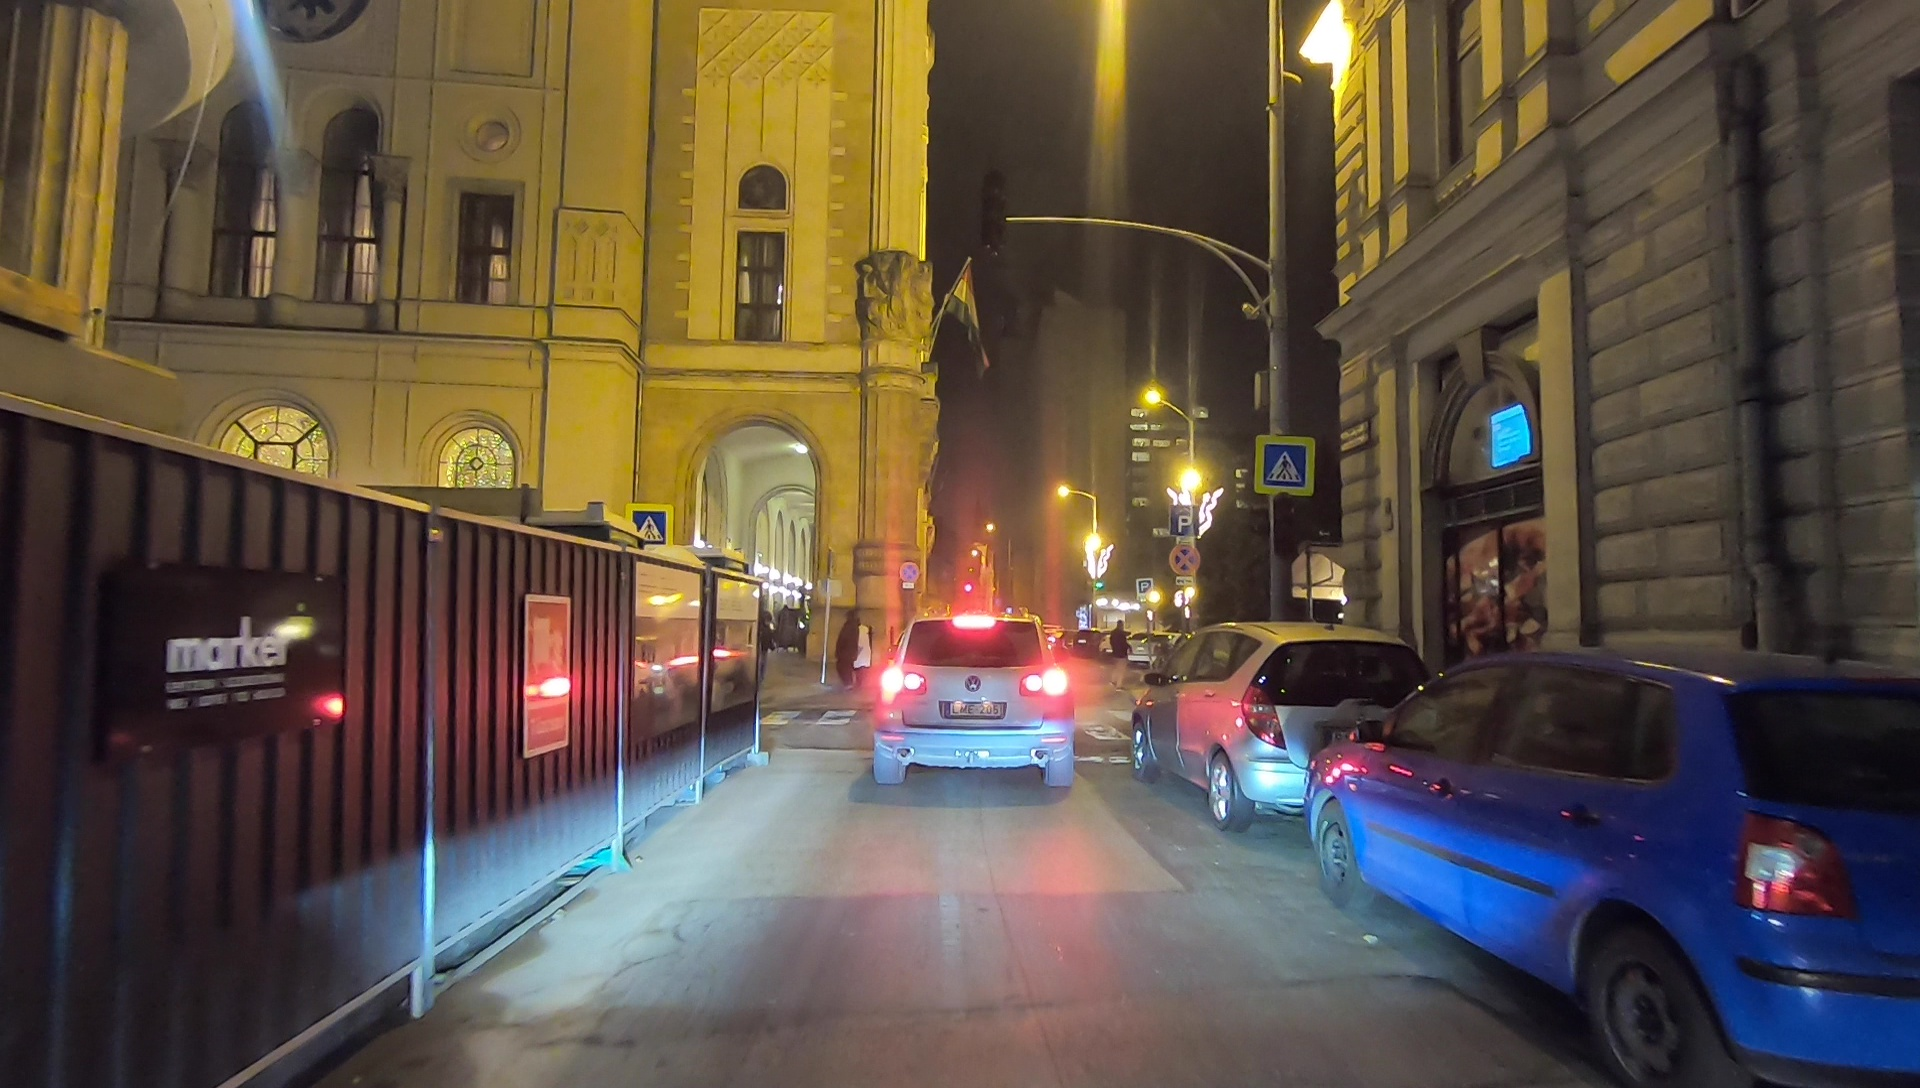person: (835, 610, 871, 692), (1108, 621, 1132, 695)
